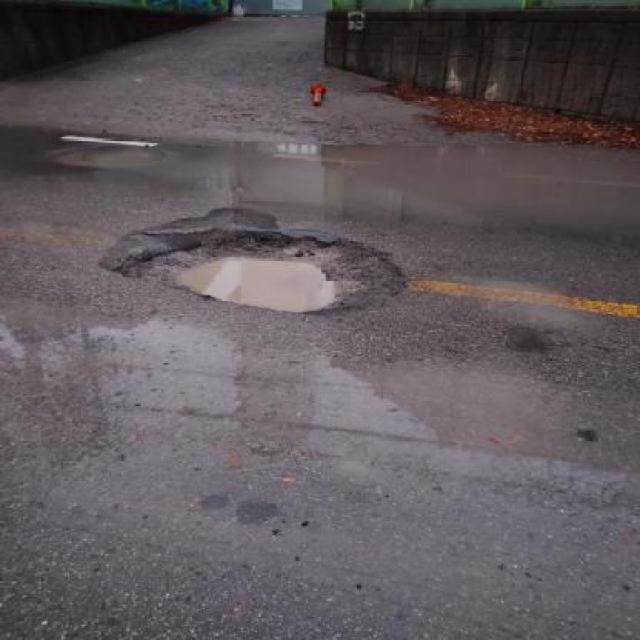Pothole: (112, 232, 408, 320)
